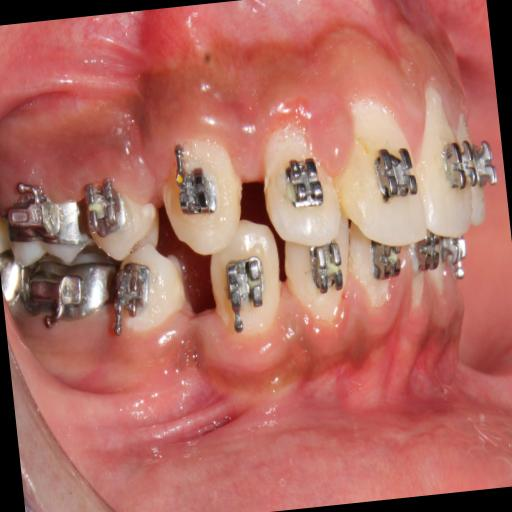correct_brace: (168, 144, 225, 223), (366, 139, 421, 203), (272, 152, 326, 214)
incorrect_brace: (252, 118, 344, 249)
